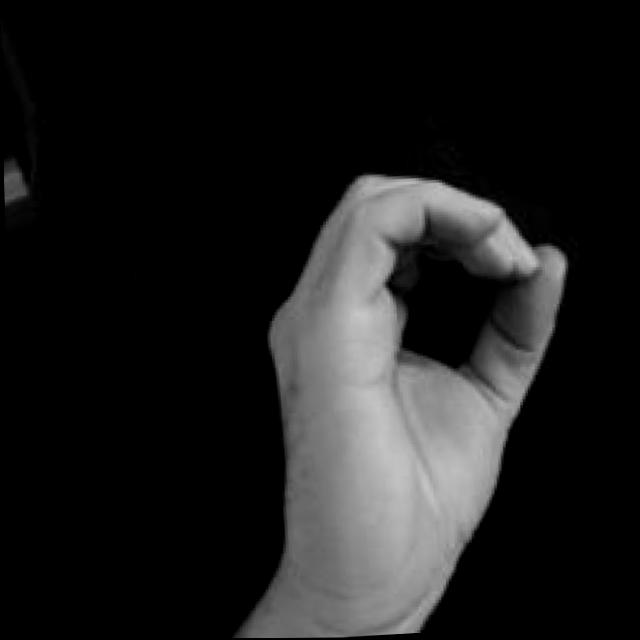O: (219, 150, 606, 638)
